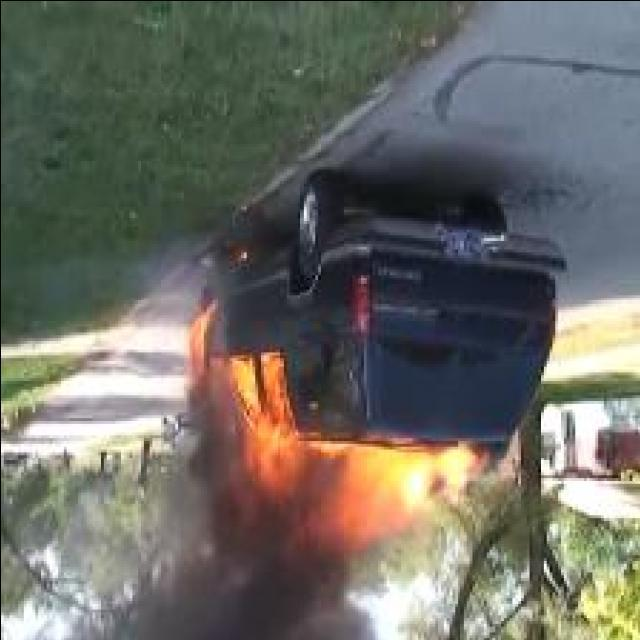Fire: (306, 441, 478, 553), (230, 357, 304, 500), (186, 307, 214, 393)
